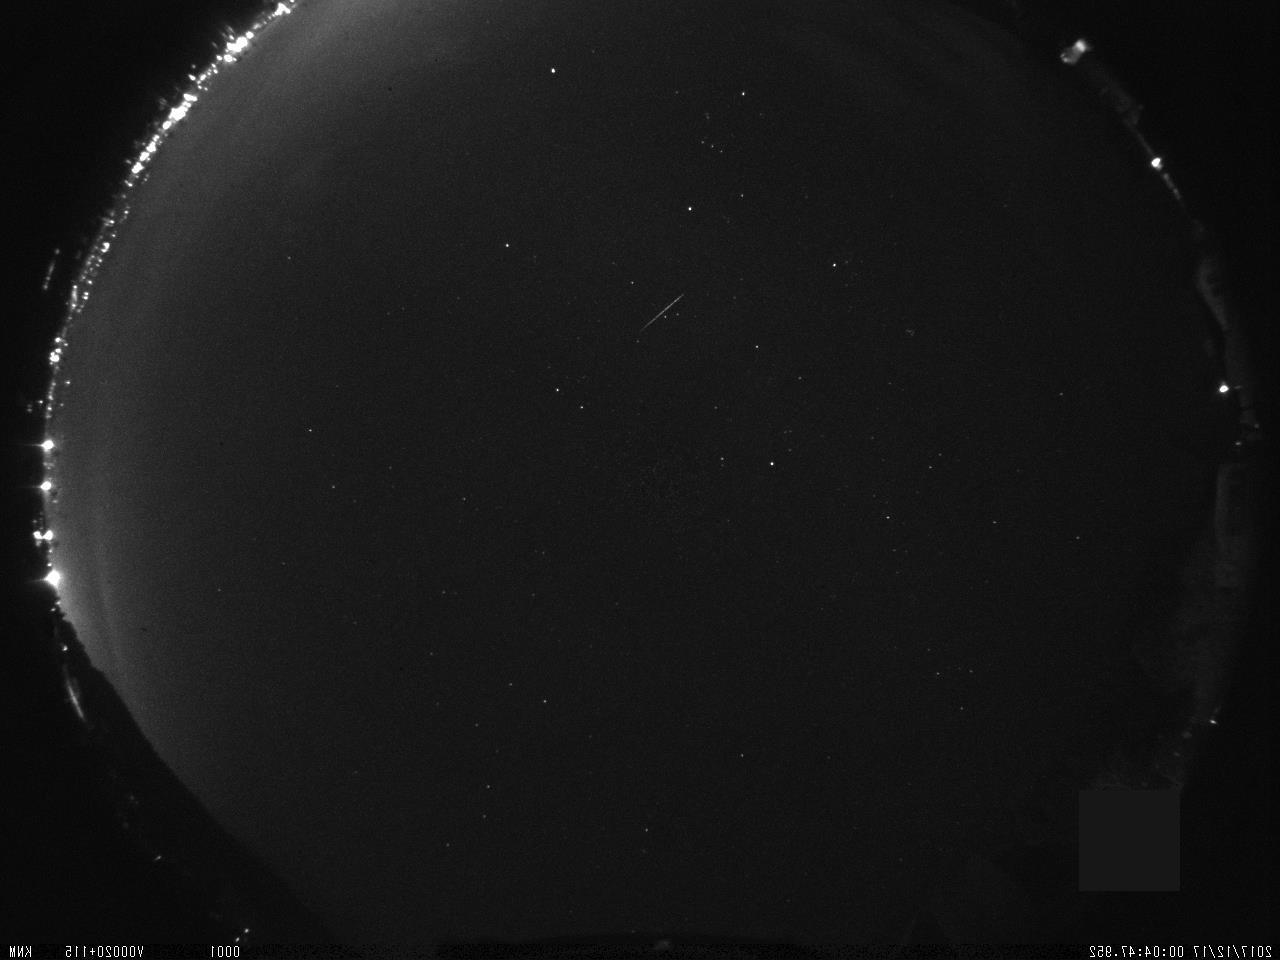meteor: (629, 279, 695, 335)
